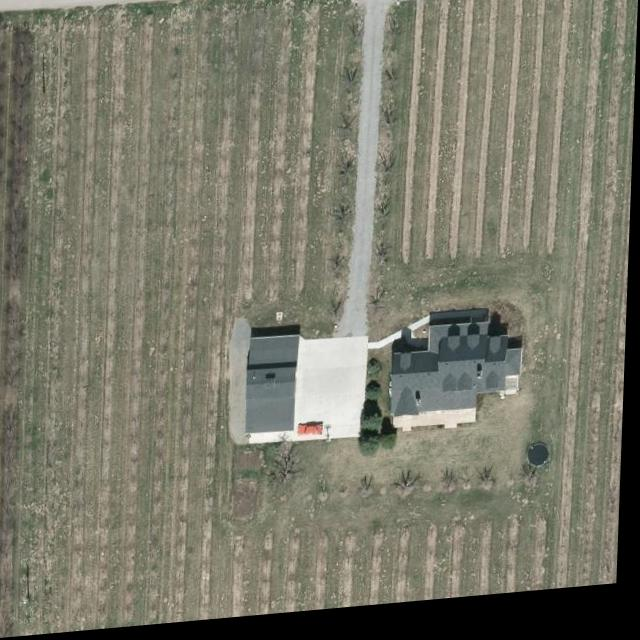vehicle: (299, 428, 328, 444)
